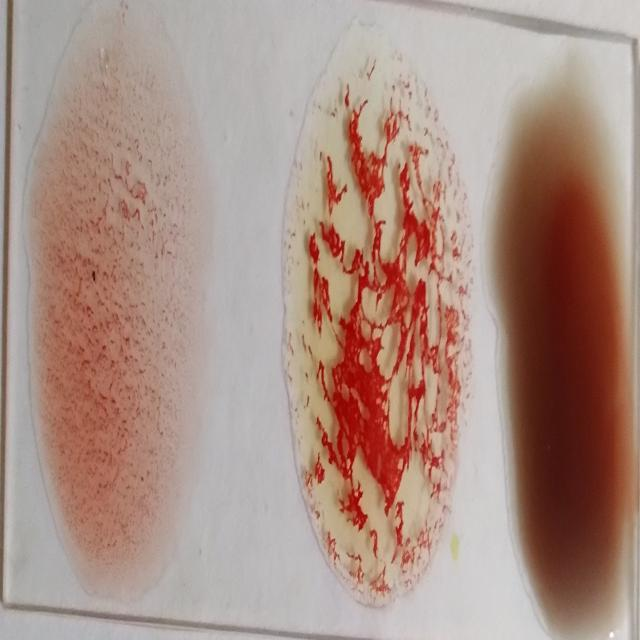B: (292, 33, 463, 613)
D: (44, 19, 187, 561)
